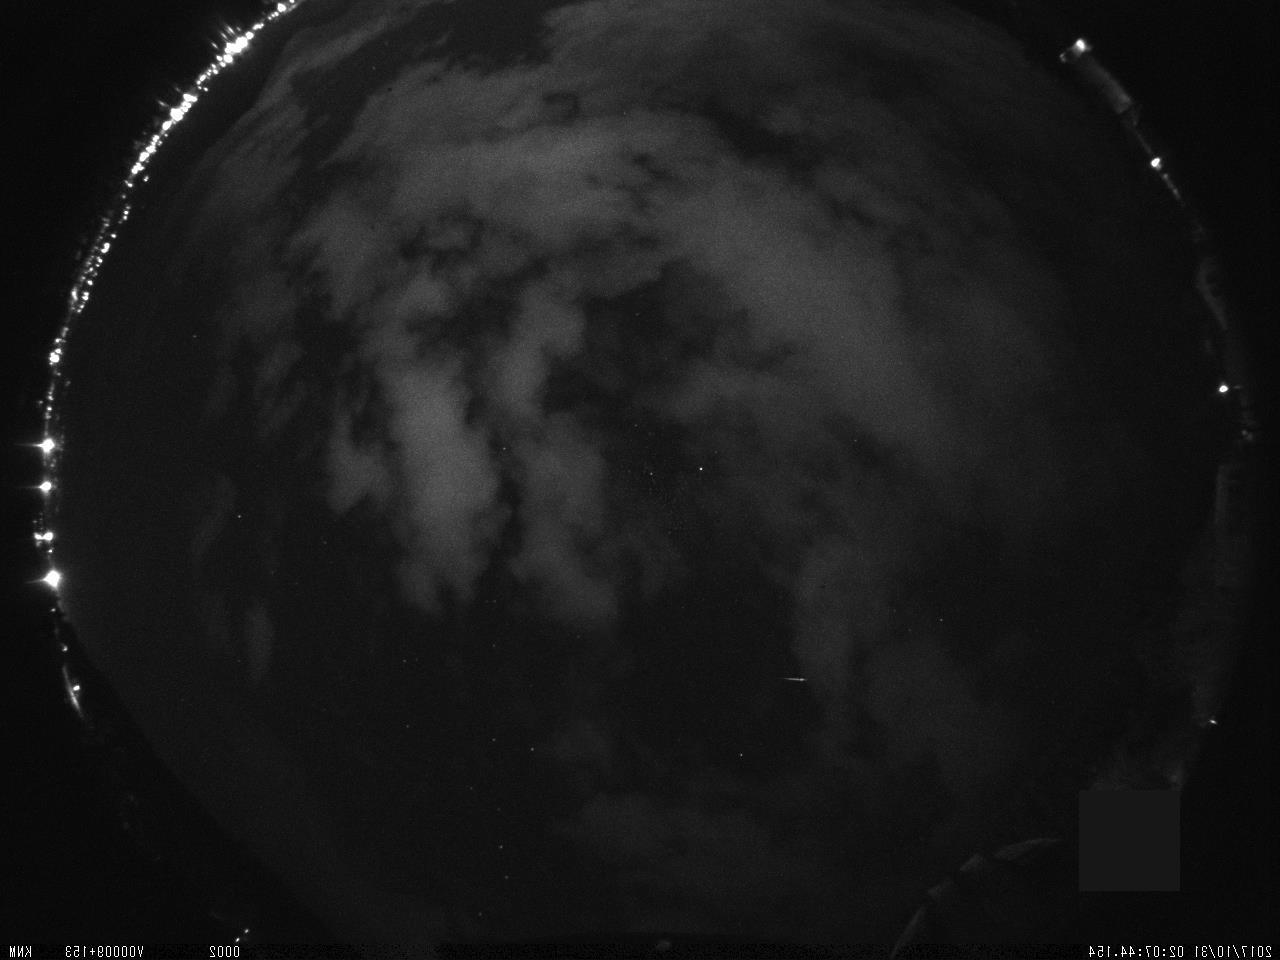meteor: (759, 658, 824, 695)
